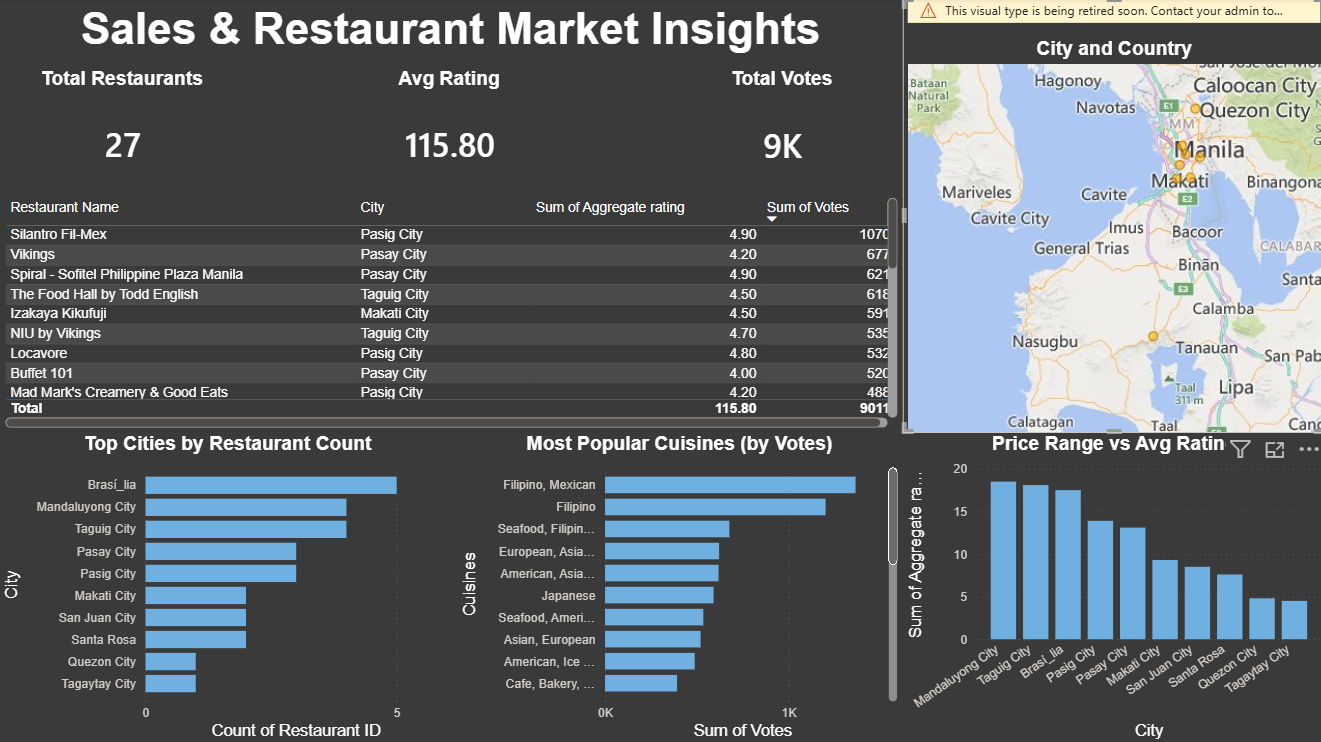

The page's visual inventory and layout, read from the dashboard file:
{"tool":"powerbi","page":{"name":"Page 1","canvas":[1280,720],"ordinal":0},"visuals":[{"type":"cardVisual","title":"Total Restaurants","fields":{"Data":["superstore zomato_with_country.Restaurant ID"]},"box":[0,67.2,237.4,120.8],"z":0},{"type":"cardVisual","title":"Avg Rating","fields":{"Data":["superstore zomato_with_country.Aggregate rating"]},"box":[314.2,67.2,241.5,120.8],"z":1000},{"type":"cardVisual","title":"Total Votes","fields":{"Data":["superstore zomato_with_country.Votes"]},"box":[639.5,67.3,232.3,121.1],"z":2000},{"type":"barChart","title":"Top Cities by Restaurant Count","fields":{"Category":["superstore zomato_with_country.City"],"Y":["superstore zomato_with_country.Restaurant ID"]},"box":[0,419.4,441.4,300.8],"z":3000},{"type":"barChart","title":"Most Popular Cuisines (by Votes)","fields":{"Category":["superstore zomato_with_country.Cuisines"],"Y":["superstore zomato_with_country.Votes"]},"box":[441.4,419.4,430.4,300.8],"z":4000},{"type":"columnChart","title":"Price Range vs Avg Rating","fields":{"Category":["superstore zomato_with_country.City"],"Y":["superstore zomato_with_country.Aggregate rating"]},"box":[871.9,419.4,408.4,300.8],"z":6000},{"type":"map","fields":{"Category":["superstore zomato_with_country.City"],"Series":["superstore zomato_with_country.Country"]},"box":[871.9,0,408.4,419.4],"z":7000},{"type":"textbox","box":[0,0,871.9,67.3],"z":8000},{"type":"tableEx","fields":{"Values":["superstore zomato_with_country.Restaurant Name","superstore zomato_with_country.City","superstore zomato_with_country.Aggregate rating","superstore zomato_with_country.Votes"]},"box":[0,188.3,871.9,231.1],"z":9000}]}

Visuals, with their boxes in screenshot pixels (x1, y1, x2, y2), scaled from the page's 1280x720 canvas onto the 1321x742 screenshot:
"Total Restaurants" cardVisual: 0/69/245/194
"Avg Rating" cardVisual: 324/69/573/194
"Total Votes" cardVisual: 660/69/900/194
"Top Cities by Restaurant Count" barChart: 0/432/456/741
"Most Popular Cuisines (by Votes)" barChart: 456/432/900/741
"Price Range vs Avg Rating" columnChart: 900/432/1320/741
map - superstore zomato_with_country.City x superstore zomato_with_country.Country: 900/0/1320/432
textbox: 0/0/900/69
tableEx - superstore zomato_with_country.Restaurant Name x superstore zomato_with_country.City: 0/194/900/432
